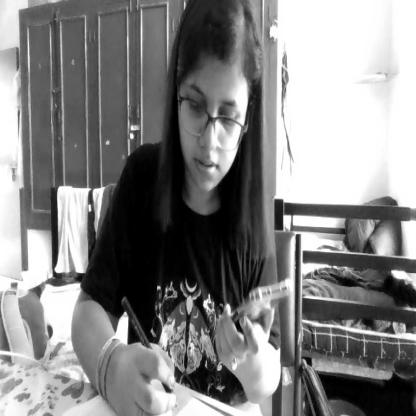Normal: (171, 0, 258, 199)
